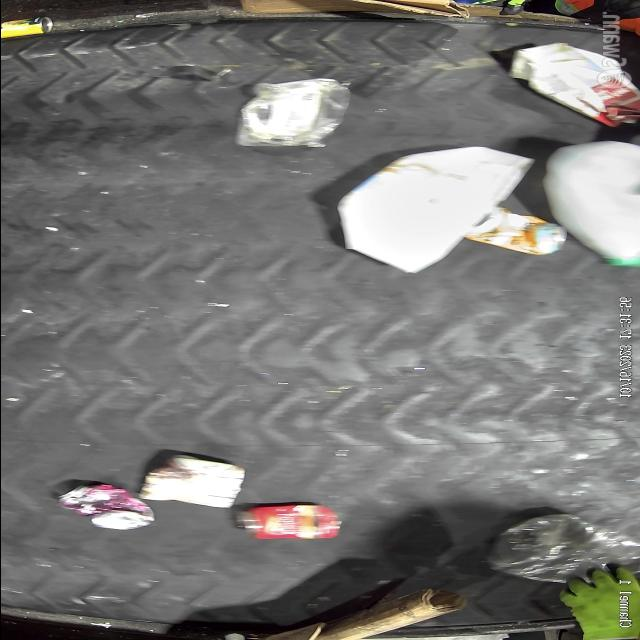can: (453, 204, 564, 258), (52, 482, 156, 532), (230, 500, 344, 538)
milk_jug: (344, 158, 542, 266), (536, 140, 640, 272)
